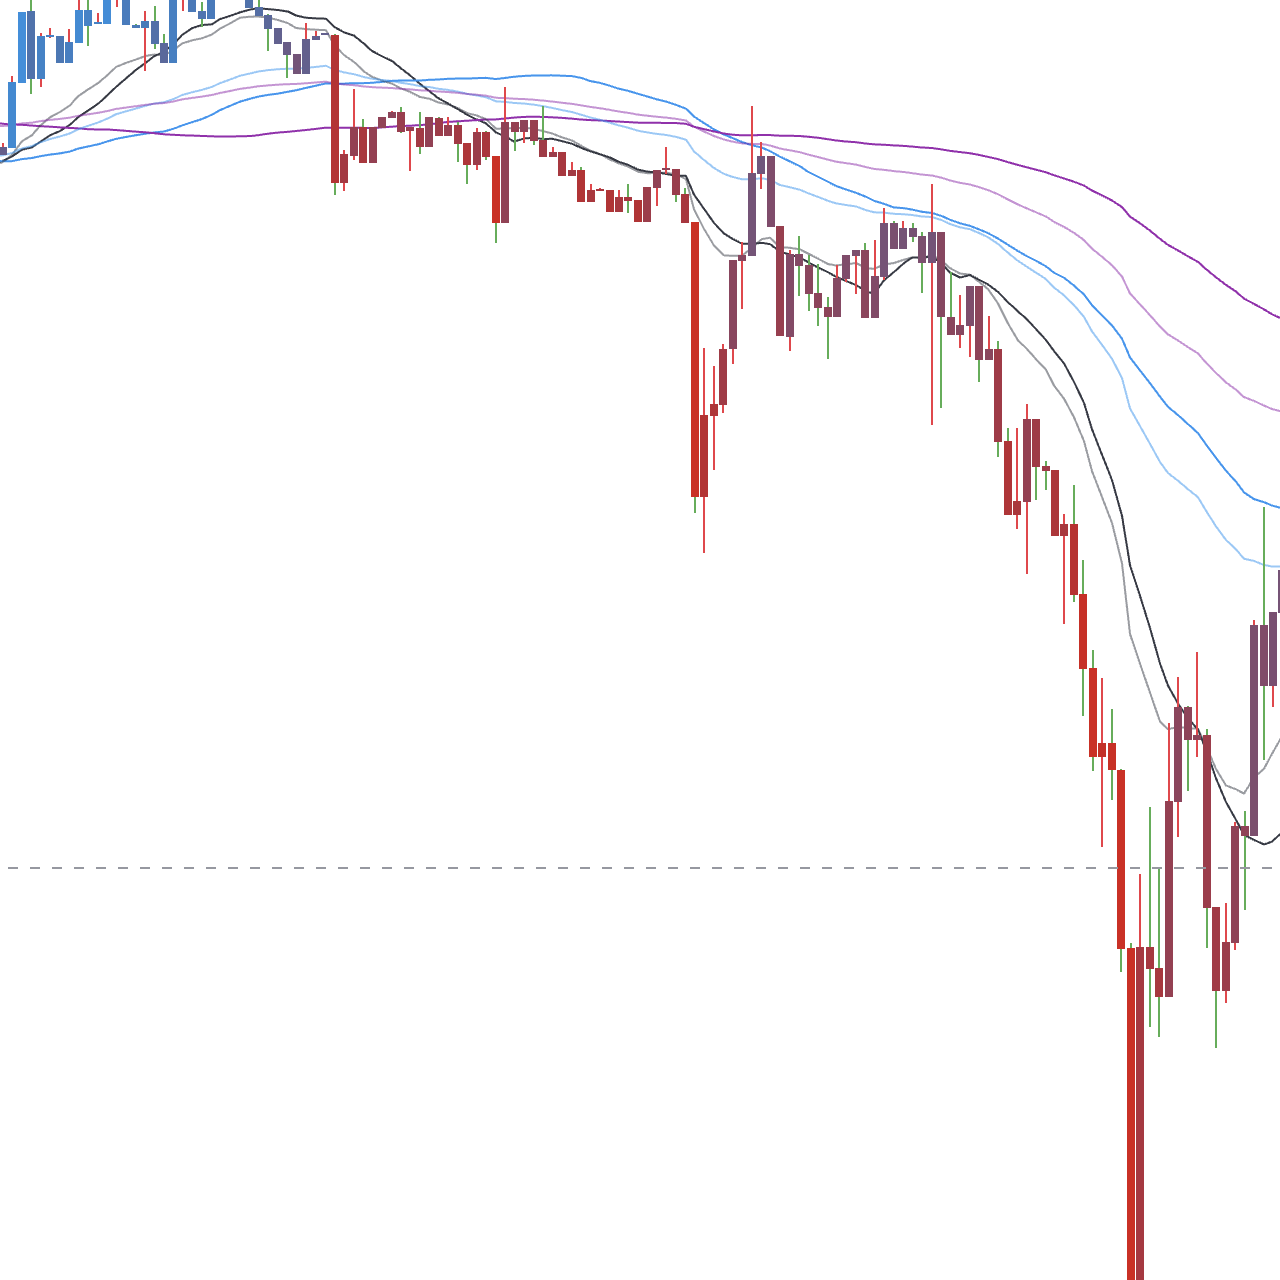ma_cluster: (358, 57, 502, 192)
